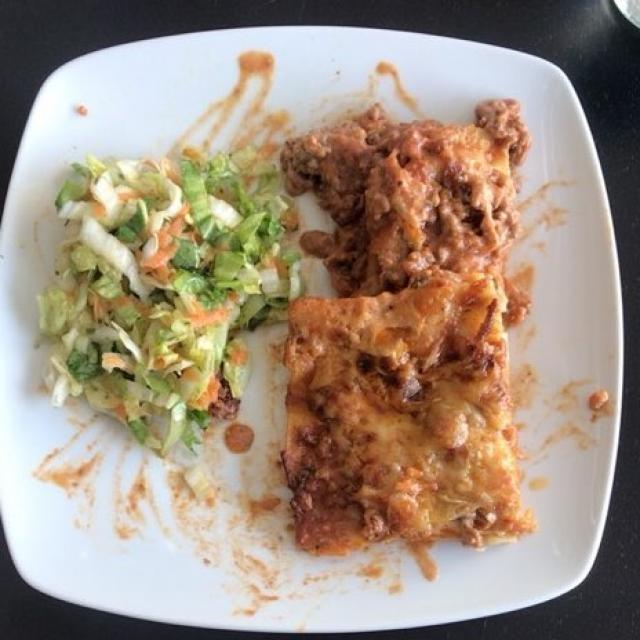lasagne: (277, 104, 528, 551)
salad: (45, 154, 285, 452)
